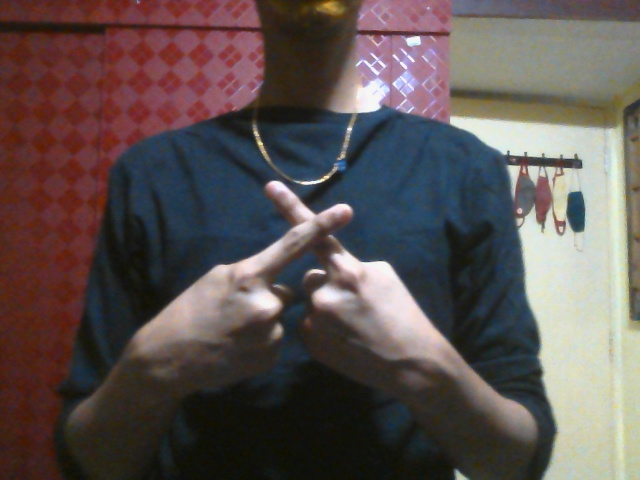X: (142, 180, 455, 397)
